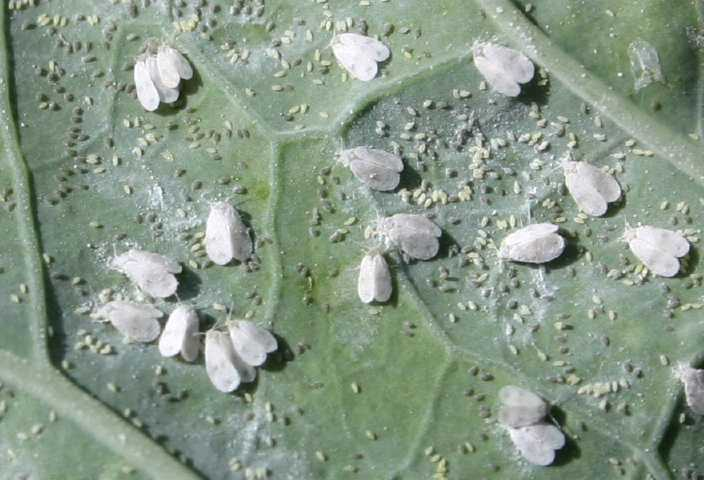whitefly: (191, 323, 257, 393), (553, 151, 622, 216), (465, 35, 536, 98), (616, 219, 690, 278), (107, 244, 183, 298), (199, 191, 252, 268), (213, 306, 280, 366), (330, 138, 405, 191), (323, 26, 392, 83), (374, 208, 442, 262), (491, 220, 565, 268), (496, 382, 563, 431), (128, 47, 180, 110), (505, 417, 567, 467), (160, 291, 202, 363), (99, 297, 163, 343), (356, 249, 394, 305), (153, 41, 195, 89)
